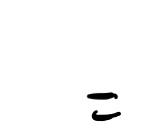eqv: (87, 92, 121, 122)
